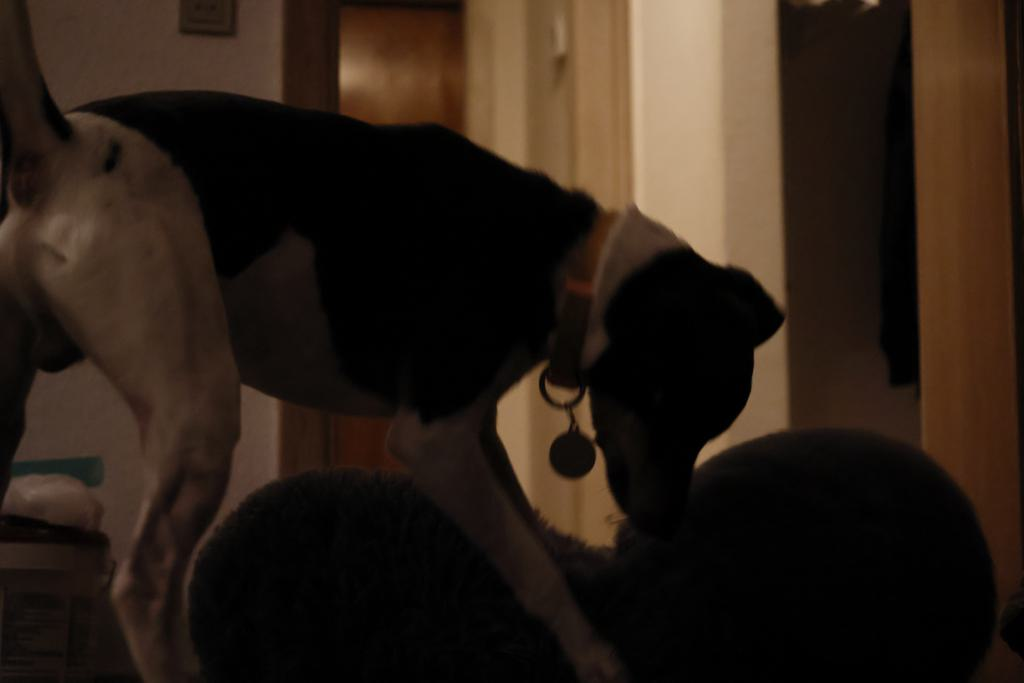Dog: (0, 0, 796, 683)
